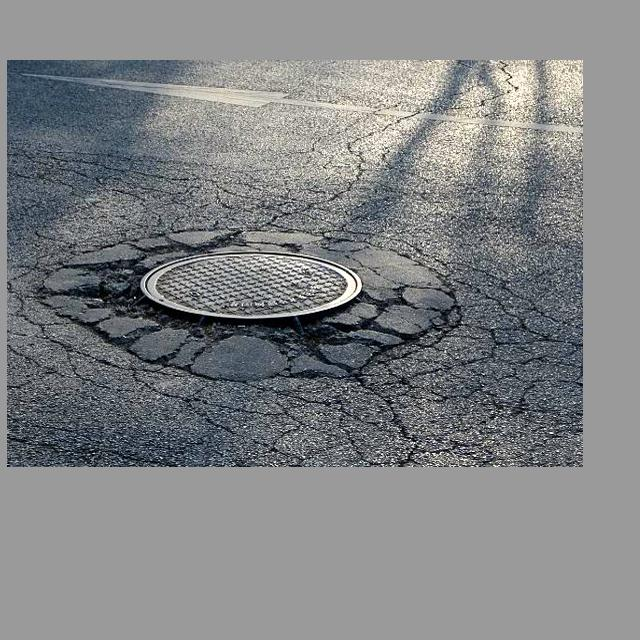circle: (62, 210, 464, 398)
